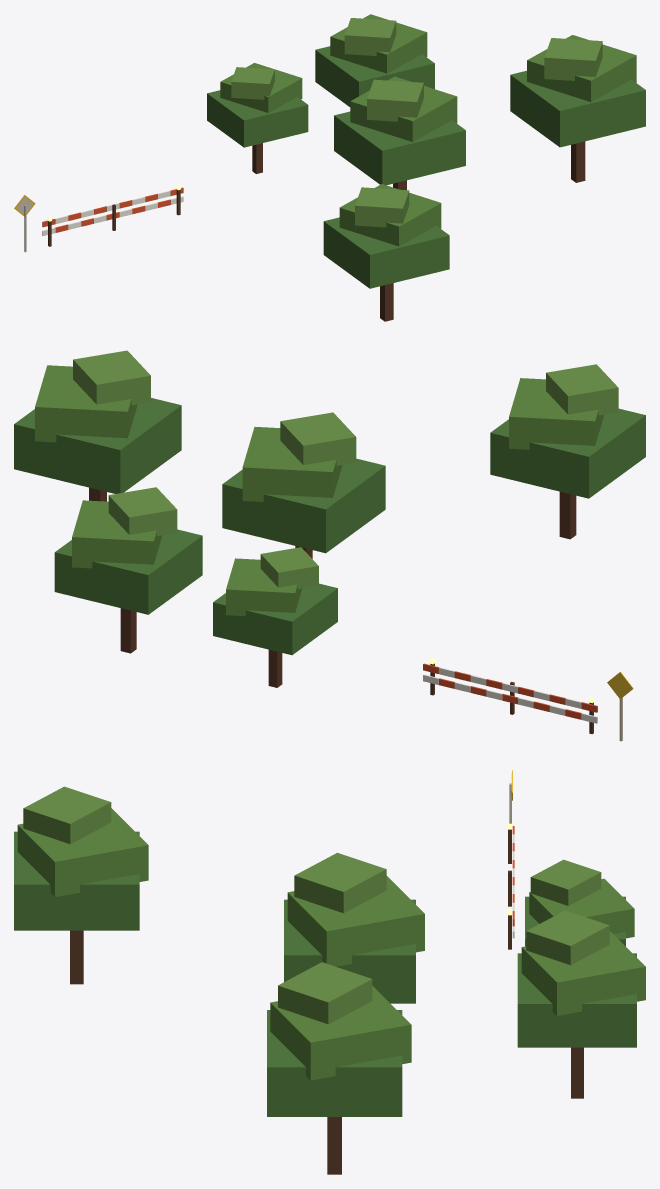
The model's file is structure.glb.
3 renders of one model, top to bottom at view 1: azimuth 30°, elevation 25°; view 2: azimuth 150°, elevation 25°; view 3: azimuth 270°, elevation 25°, orthographic. The views are drawn at different scales.
Parts seen in each view (by area): view 1: Box6, Box2, Box18, Box10, Box14, Box7, Box3, Box19, Box15, Box8, Box4, Box20 (+5 smaller); view 2: Box6, Box2, Box18, Box14, Box10, Box7, Box3, Box19, Box15, Box8, Box4, Box11 (+5 smaller); view 3: Box6, Box7, Box3, Box18, Box19, Box14, Box15, Box2, Box8, Box4, Box20, Box16 (+5 smaller).
Part boxes in pixels (box(x1,y1,x2,y2)): Box6: box(510, 70, 645, 147); Box2: box(334, 111, 465, 185); Box18: box(323, 217, 449, 288); Box10: box(207, 90, 308, 147); Box14: box(315, 46, 434, 106); Box7: box(527, 35, 636, 101); Box3: box(350, 76, 457, 141); Box19: box(339, 184, 441, 246); Box15: box(330, 14, 427, 73); Box8: box(544, 38, 602, 80); Box4: box(367, 79, 423, 121); Box20: box(355, 187, 409, 227); Box6: box(14, 398, 181, 493); Box2: box(222, 458, 385, 553); Box18: box(490, 408, 645, 498); Box14: box(54, 529, 202, 614); Box10: box(213, 583, 337, 655); Box7: box(35, 365, 137, 442); Box3: box(242, 426, 342, 501); Box19: box(509, 378, 603, 449); Box15: box(72, 500, 162, 568); Box8: box(73, 350, 150, 405); Box4: box(280, 412, 356, 465); Box11: box(226, 558, 301, 616); Box6: box(267, 1010, 402, 1116); Box7: box(270, 986, 411, 1080); Box3: box(287, 876, 424, 966); Box18: box(14, 831, 139, 930); Box19: box(17, 808, 148, 896); Box14: box(517, 953, 636, 1047); Box15: box(521, 931, 645, 1015); Box2: box(284, 899, 415, 1003); Box8: box(278, 962, 372, 1024); Box4: box(294, 852, 386, 913); Box20: box(23, 786, 111, 844); Box16: box(526, 910, 609, 965).
Bounding box in the file's own units: 27.27 × 6.42 × 19.97.
